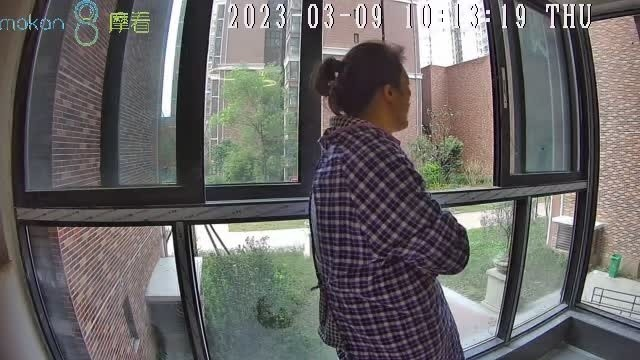people: (310, 41, 470, 360)
window: (7, 1, 579, 360)
